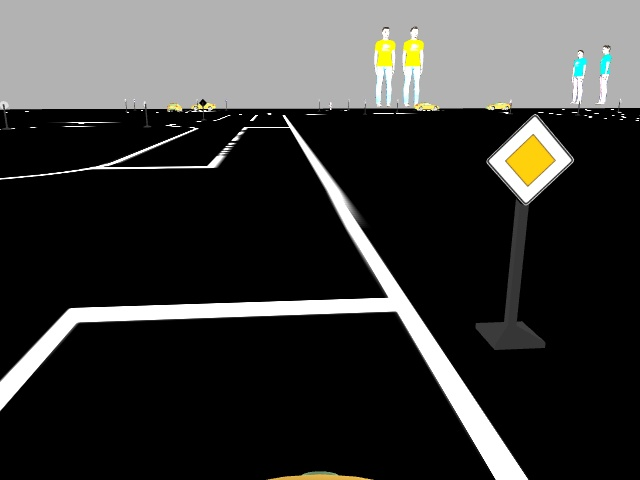Priority: (492, 112, 570, 205)
